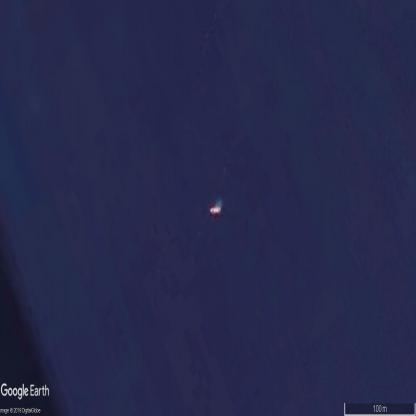ship: (210, 207, 220, 215)
